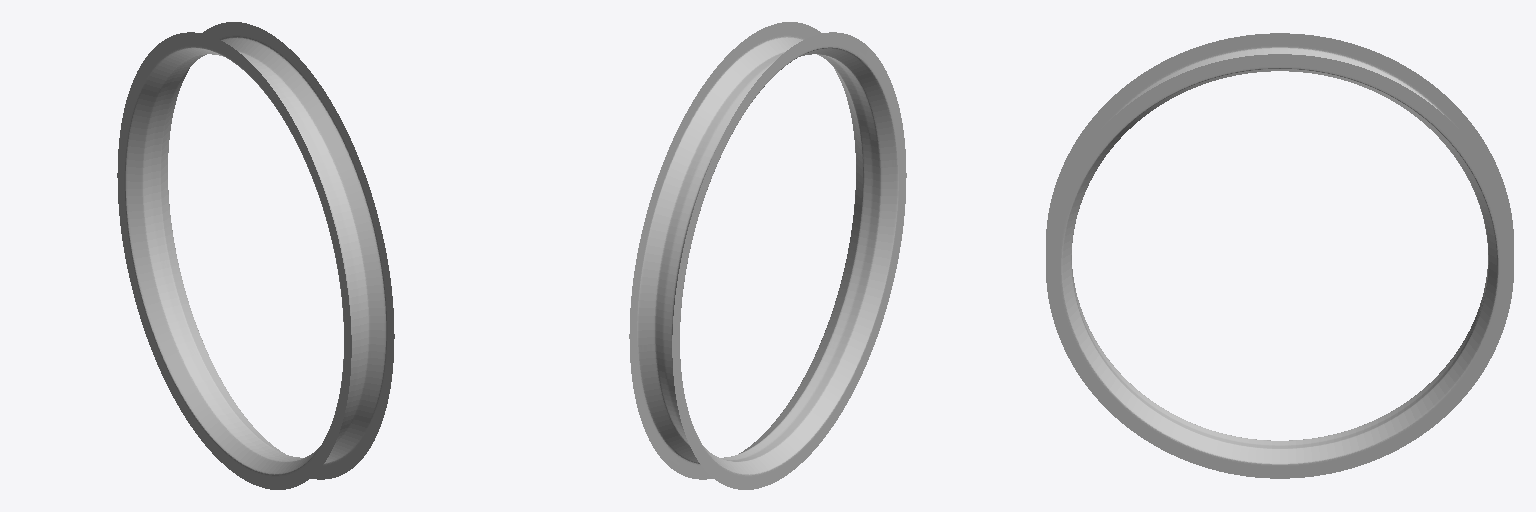
Rendered from NewRim.obj.
3 views of the same model, side by side, from view 1: azimuth 30°, elevation 25°; view 2: azimuth 150°, elevation 25°; view 3: azimuth 270°, elevation 25° (orthographic).
Visible parts, largest first — view 1: BetterWheels_Rim; view 2: BetterWheels_Rim; view 3: BetterWheels_Rim.
Part boxes in pixels (x1,y1,x2,y2): BetterWheels_Rim: (117, 22, 394, 489); BetterWheels_Rim: (629, 22, 906, 489); BetterWheels_Rim: (1046, 33, 1513, 478).
Size of the model in its own units: 0.0441 by 0.4174 by 0.4174.